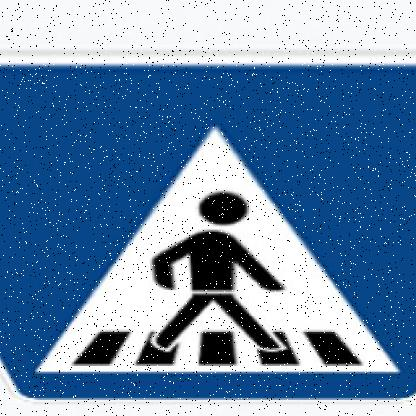Pedestrian Crossing: (1, 50, 416, 404)
